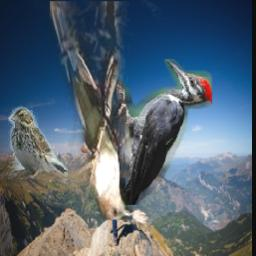Cuckoo: (51, 2, 133, 221)
Sparrow: (8, 106, 68, 179)
Woodpecker: (115, 60, 213, 206)
